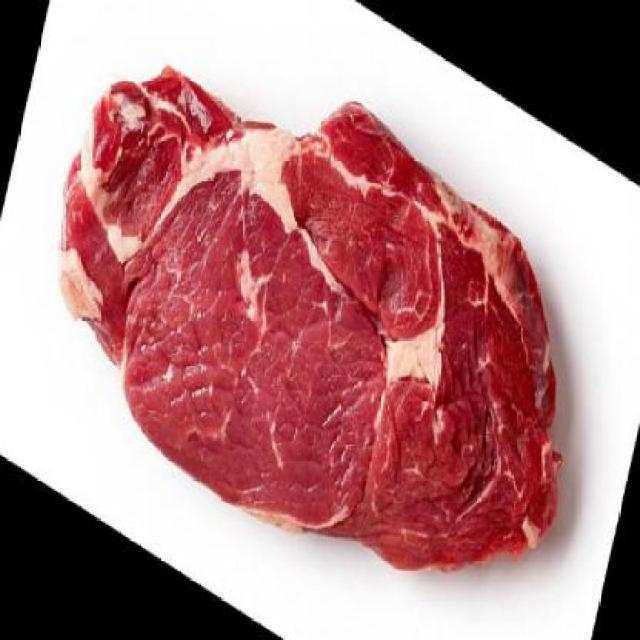beef: (20, 0, 616, 638)
